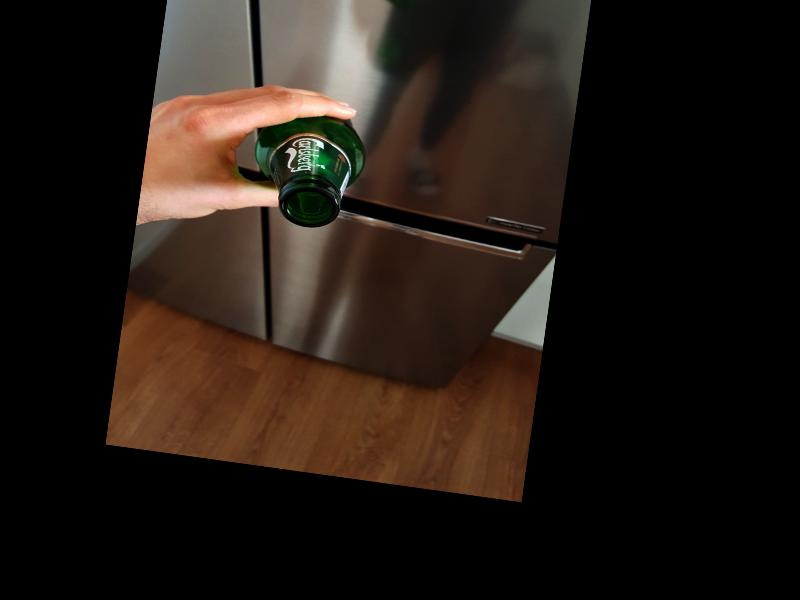Beer: (248, 107, 369, 234)
